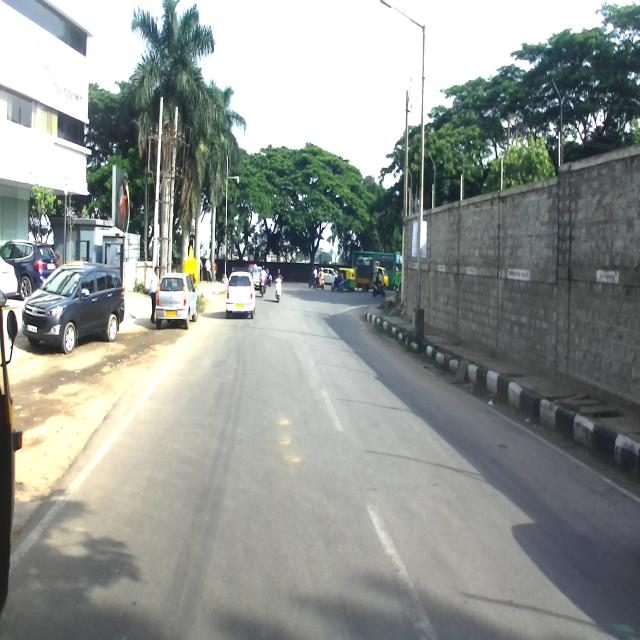car ahead at: (19, 258, 127, 354), (154, 269, 194, 332), (221, 265, 256, 318)
